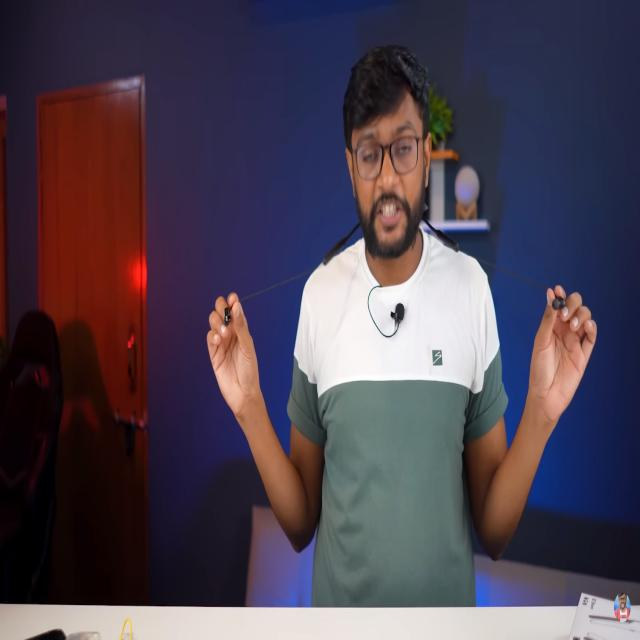Neckband: (223, 211, 566, 329)
